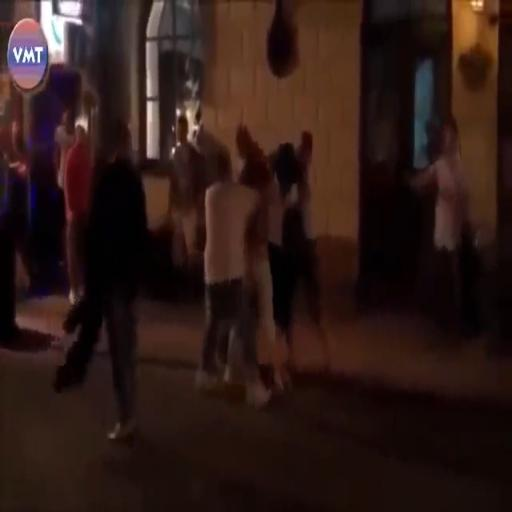violencia: (181, 110, 328, 407)
